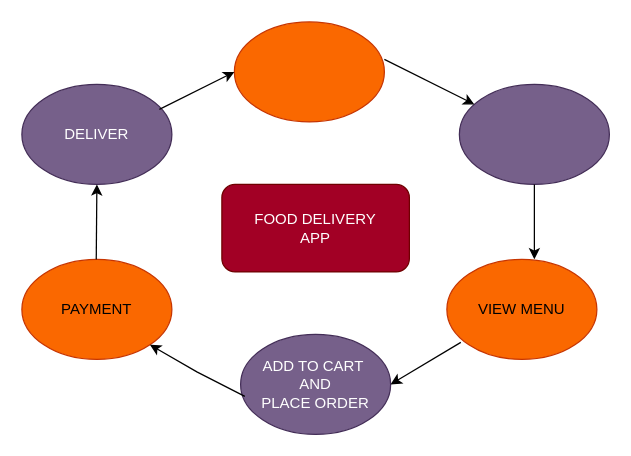
This 631x456 diagram has some shape labels left out. The shapes that lost their labels are listed below. From the top down, each one's centre as x and y in pixels, then its label:
At point (308, 71): "LOGIN OR SIGN IN".
At point (533, 133): "BROWSE RESTAURANT".
